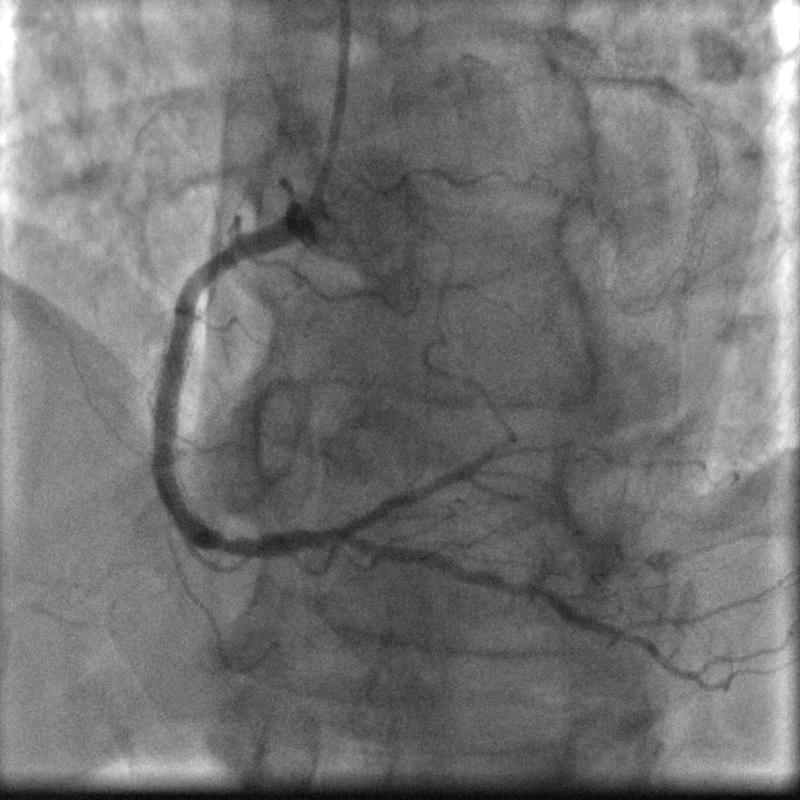Stenosis: (189, 241, 247, 296)
